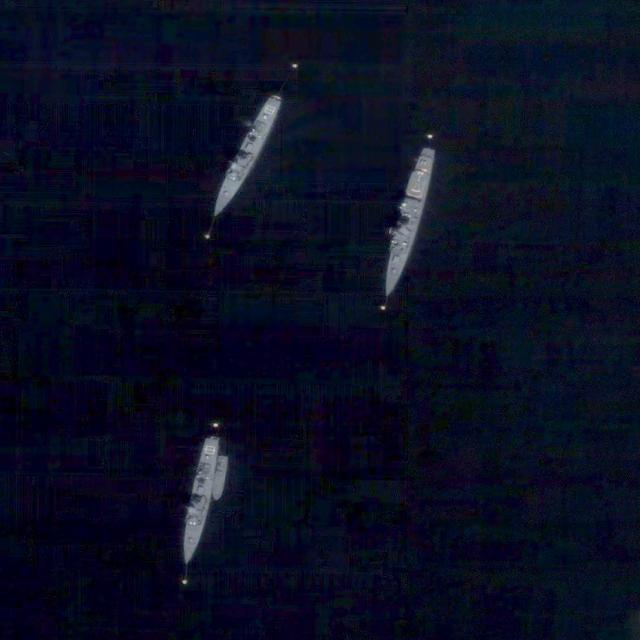Destroyer: (206, 92, 286, 222), (378, 145, 438, 299), (176, 434, 222, 566)
Other Warship: (210, 454, 229, 501)
